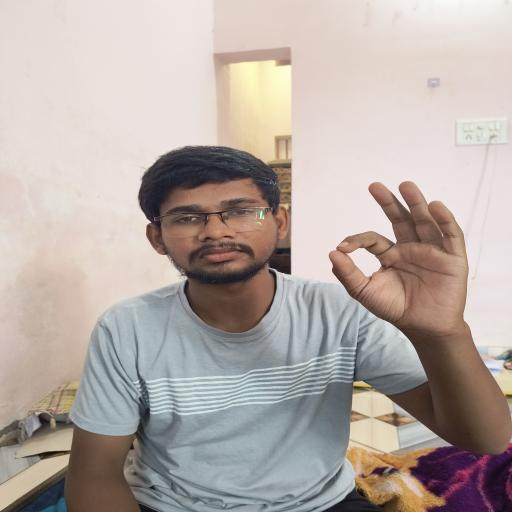Previous: (305, 173, 496, 350)
